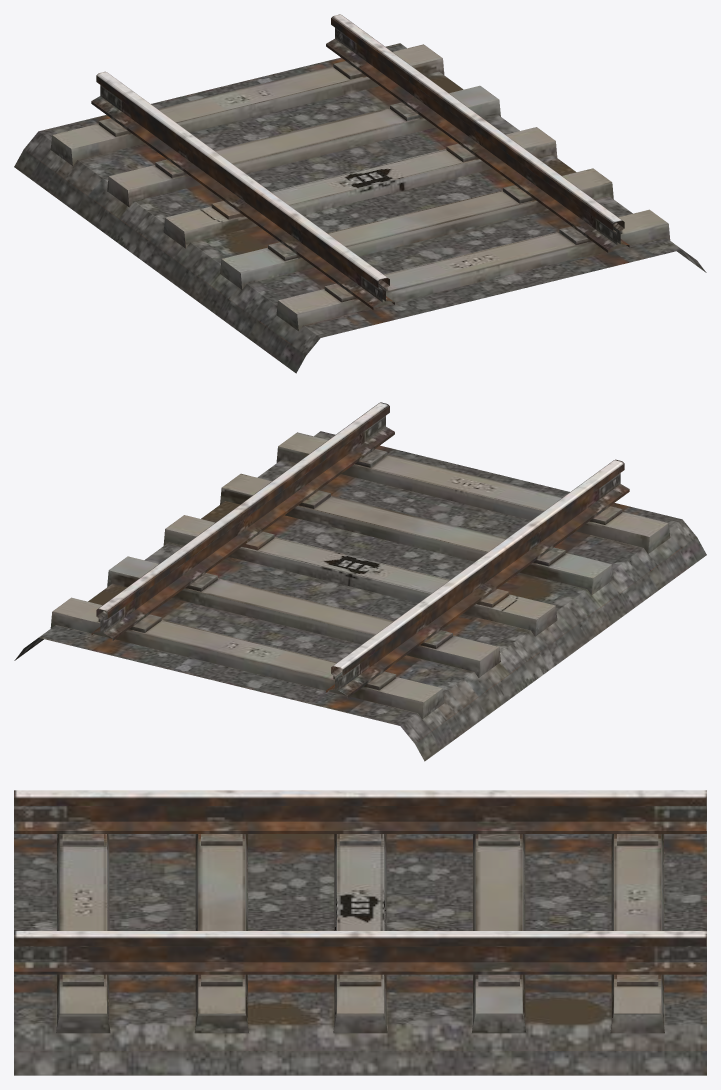
File: trilho_reto.glb
3 renders of one model, top to bottom at view 1: azimuth 30°, elevation 25°; view 2: azimuth 150°, elevation 25°; view 3: azimuth 270°, elevation 25°, orthographic. The views are drawn at different scales.
Parts seen in each view (by area): view 1: trilho_reto_corpo; view 2: trilho_reto_corpo; view 3: trilho_reto_corpo.
Part boxes in pixels (x1,y1,x2,y2): trilho_reto_corpo: [14, 14, 706, 373]; trilho_reto_corpo: [14, 402, 706, 761]; trilho_reto_corpo: [14, 790, 706, 1075].
Bounding box in the file's own units: 0.84 × 0.143 × 1.
Materials: 1 (1 with a texture image).
